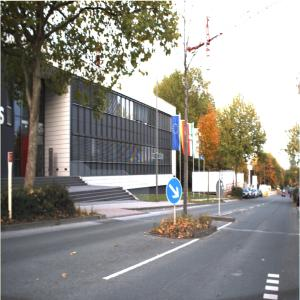keep right: (167, 179, 183, 206)
